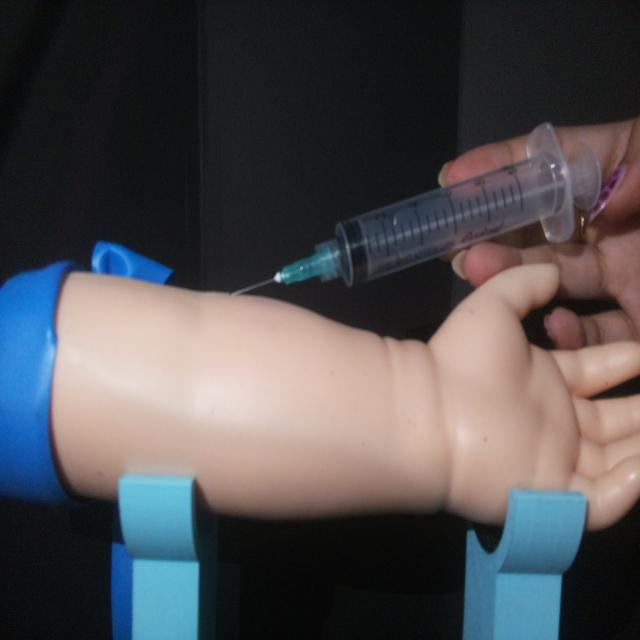24deg: (226, 118, 603, 301)
